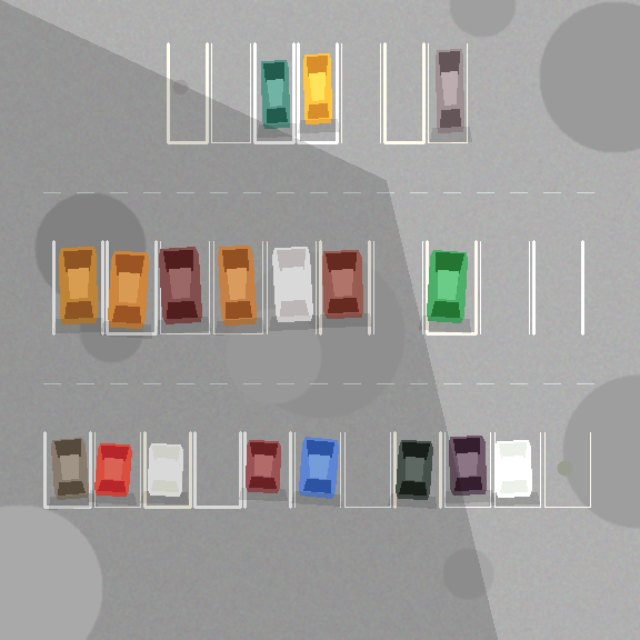space-empty: (373, 241, 422, 333), (480, 241, 529, 333), (533, 241, 582, 333), (168, 43, 207, 142), (211, 43, 250, 142), (341, 43, 380, 142), (384, 43, 423, 142), (194, 432, 240, 507), (344, 432, 390, 507), (544, 432, 590, 507)
space-occupied: (53, 241, 102, 333), (107, 241, 156, 333), (160, 241, 209, 333), (213, 241, 262, 333), (267, 241, 316, 333), (320, 241, 369, 333), (427, 241, 476, 333), (254, 43, 293, 142), (298, 43, 337, 142), (428, 43, 467, 142), (44, 432, 90, 507), (94, 432, 140, 507), (144, 432, 190, 507), (244, 432, 290, 507), (294, 432, 340, 507), (394, 432, 440, 507), (444, 432, 490, 507), (494, 432, 540, 507)
